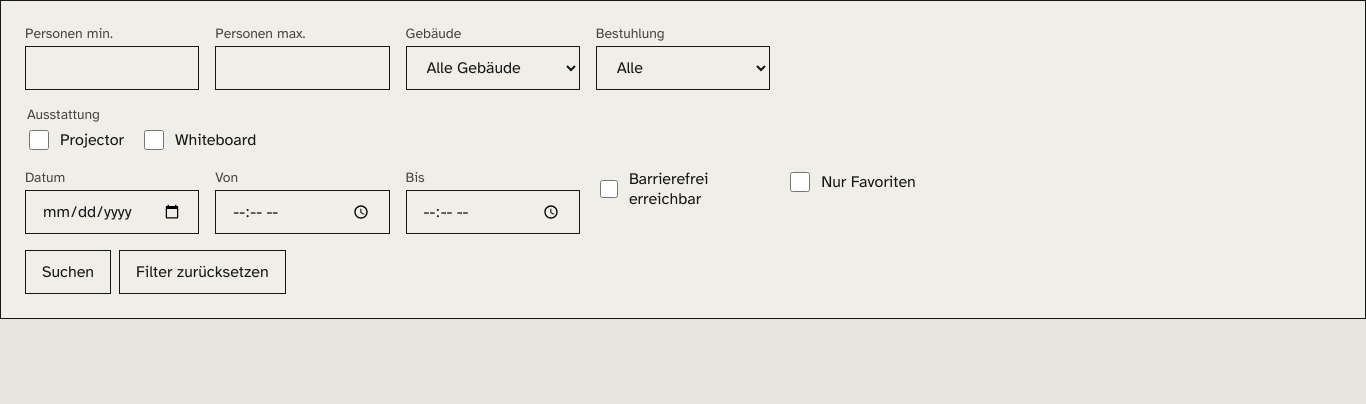
Test: RoomSearchPanel › rejects zero persons
This screenshot has width=1366, height=404.
In the number field labelled "Personen min.": (112, 68) x1=25 y1=46 x2=199 y2=90, type "0"
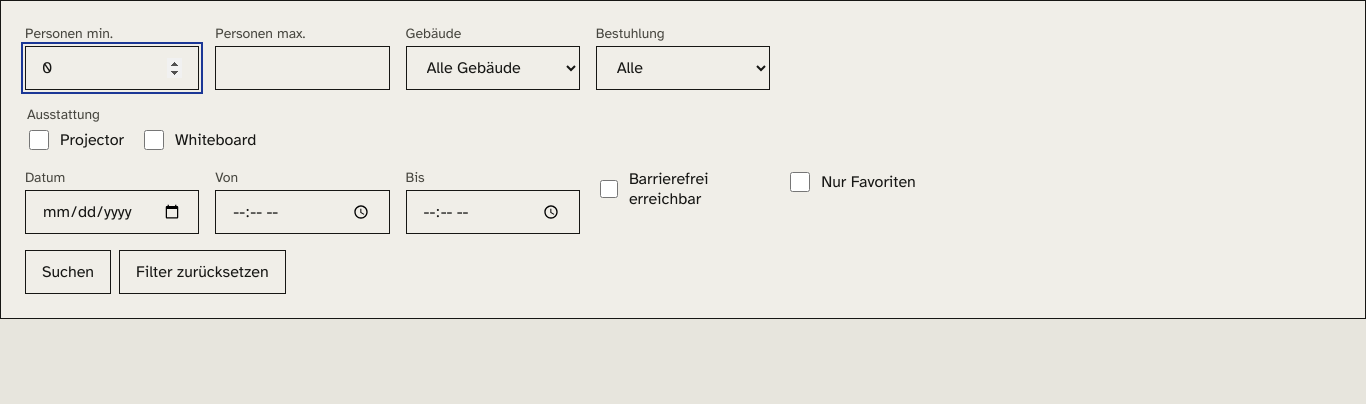
Click the button "Suchen": click(68, 272) x1=25 y1=250 x2=111 y2=294
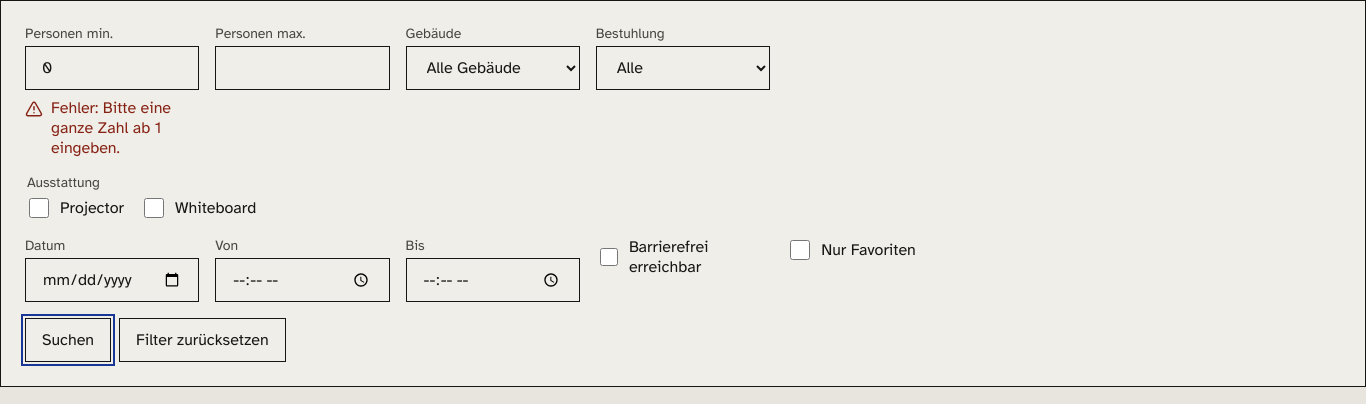
Expected: the text "Bitte eine ganze Zahl ab 1 eingeben." is shown, x1=51 y1=98 x2=171 y2=158
